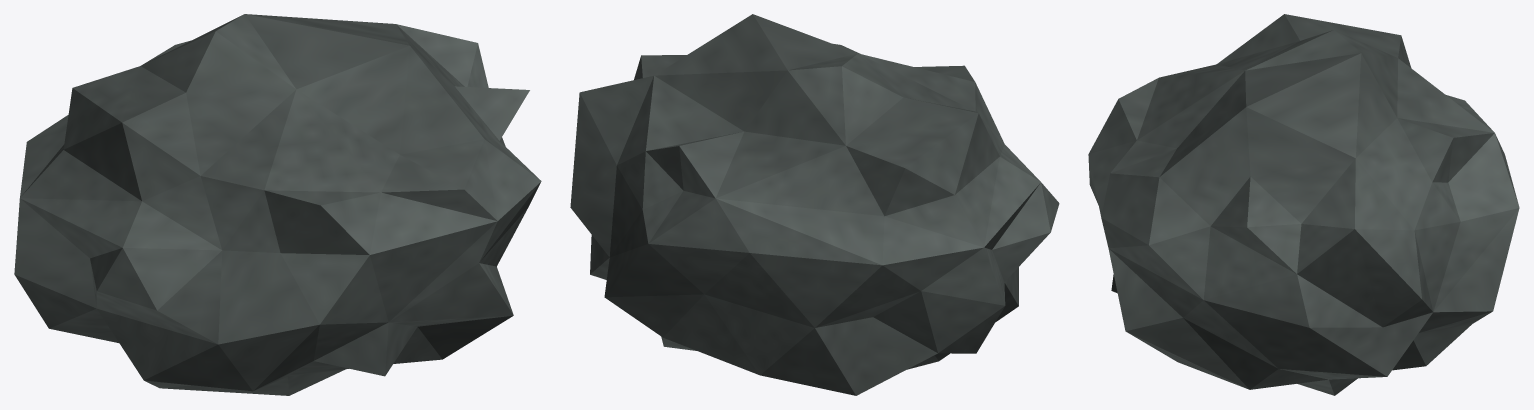
The model's file is rocks.boulder.lod1.glb.
The picture shows the model from 3 angles, left to right: view 1: azimuth 30°, elevation 25°; view 2: azimuth 150°, elevation 25°; view 3: azimuth 270°, elevation 25°; orthographic projection. The views are drawn at different scales.
Parts seen in each view (by area): view 1: Boulder; view 2: Boulder; view 3: Boulder.
Boxes of the visible parts, x1,y1,x2,y2 form: Boulder: [14, 14, 541, 395]; Boulder: [570, 14, 1059, 395]; Boulder: [1088, 14, 1519, 395].
Size of the model in its own units: 3 by 2.14 by 2.63.
Materials: 1 (1 with a texture image).
